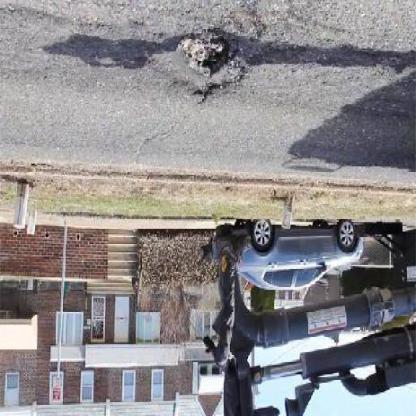pothole: (170, 26, 252, 104)
